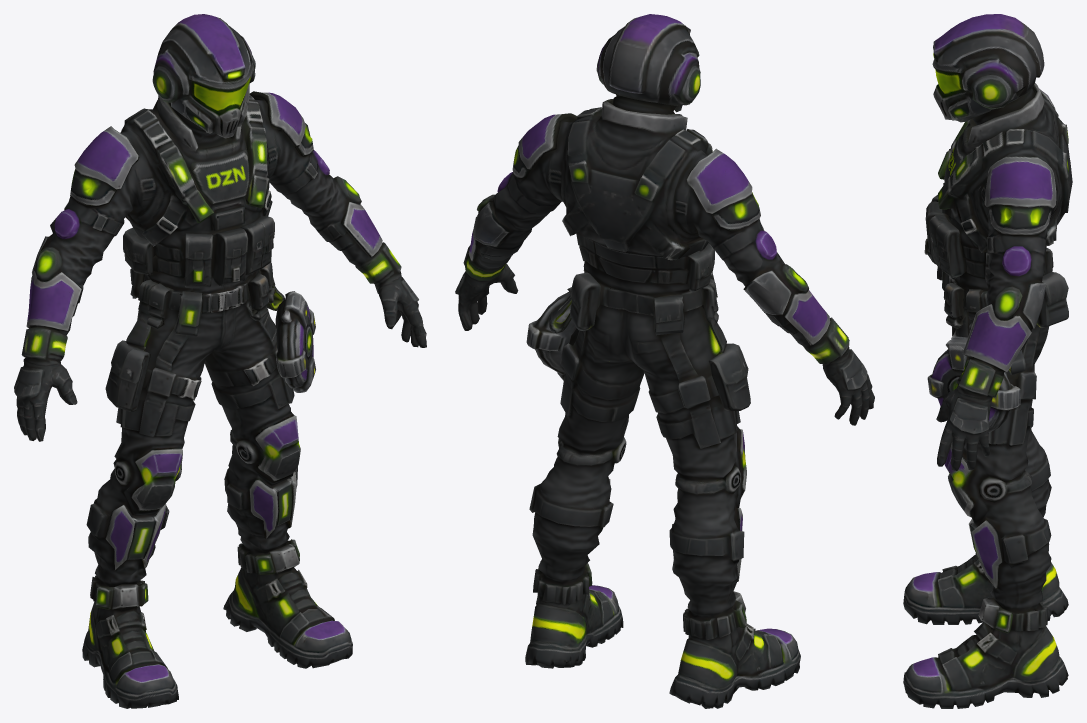
File: trapper_l01-apose-static.glb
3 renders of one model, left to right at view 1: azimuth 30°, elevation 25°; view 2: azimuth 150°, elevation 25°; view 3: azimuth 270°, elevation 25°, orthographic.
Visible parts, largest first — view 1: geometry_0; view 2: geometry_0; view 3: geometry_0.
Boxes of the visible parts, <box> form: geometry_0: <box>14,14,426,708</box>; geometry_0: <box>455,14,874,708</box>; geometry_0: <box>903,14,1072,708</box>.
Bounding box in the file's own units: 0.6187 × 0.9507 × 0.229.
Materials: 1 (1 with a texture image).
